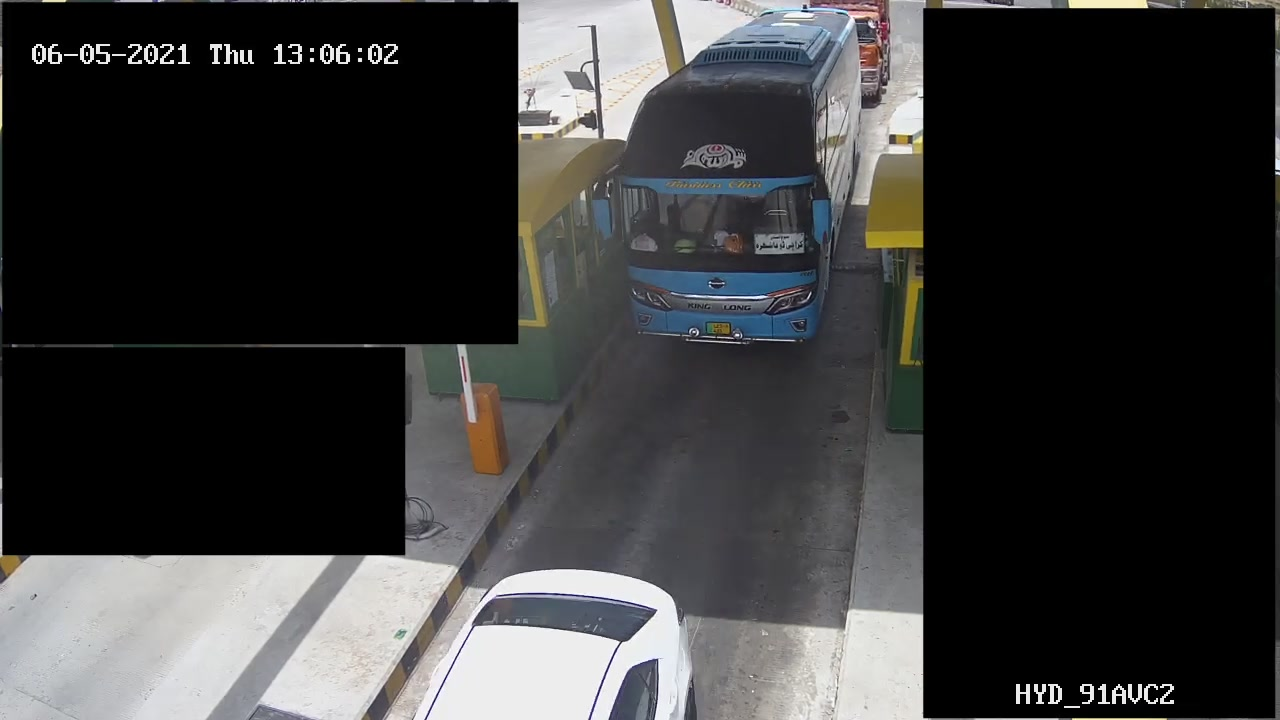F4: (607, 3, 865, 361)
